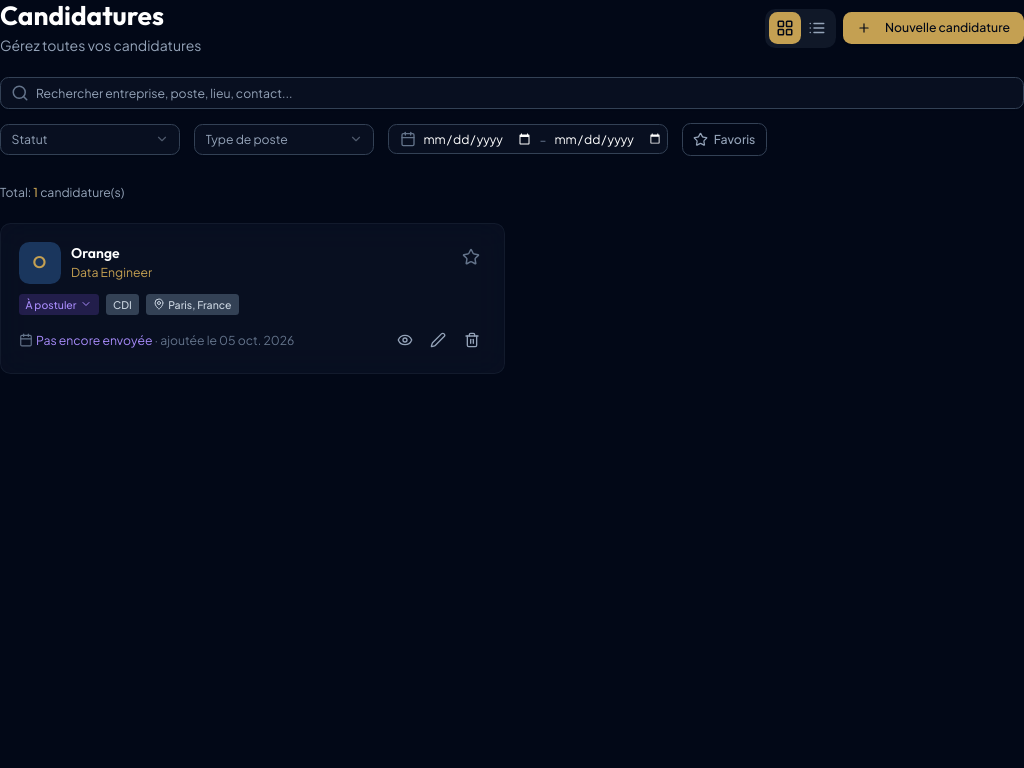
Test: le menu ne propose que « En attente » et demande la date avant tout envoi
The width and height of the screenshot is (1024, 768).
Click the button "À postuler".
click(59, 304)  # box [18,294,99,314]
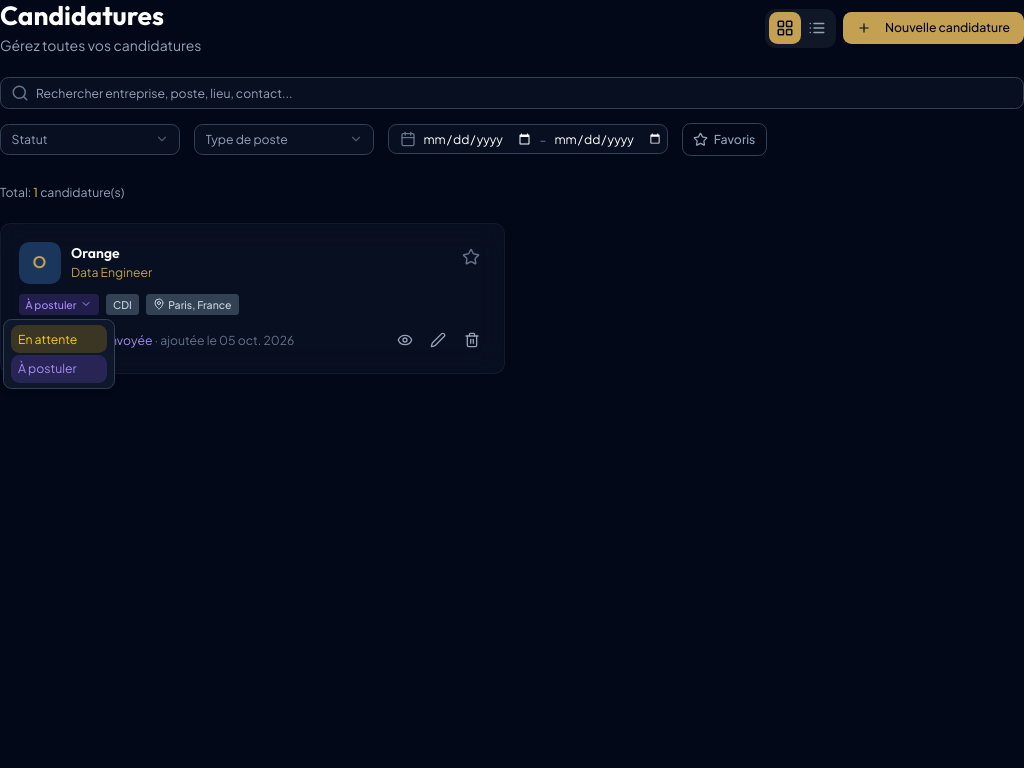
expect the menu items read "En attente", "À postuler", in this order: met
Click the menu item "En attente".
click(59, 339)  # box [11,325,107,353]
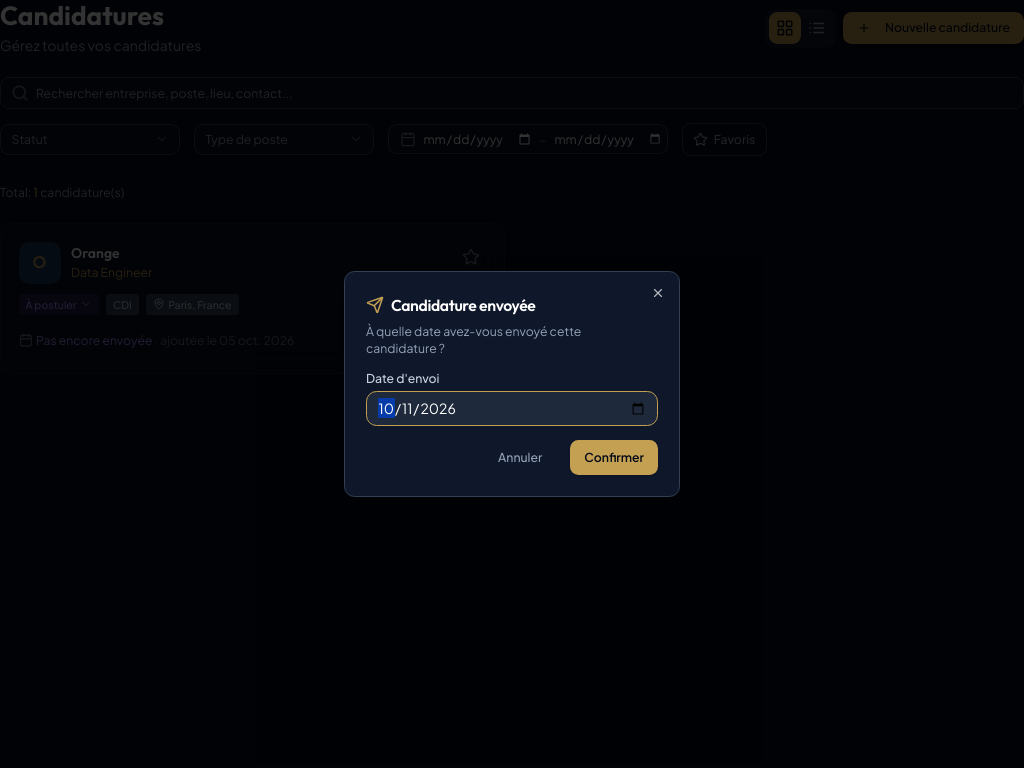
expect the text "À quelle date avez-vous envoyé cette candidature ?" is shown: met, box [366,323,581,356]
